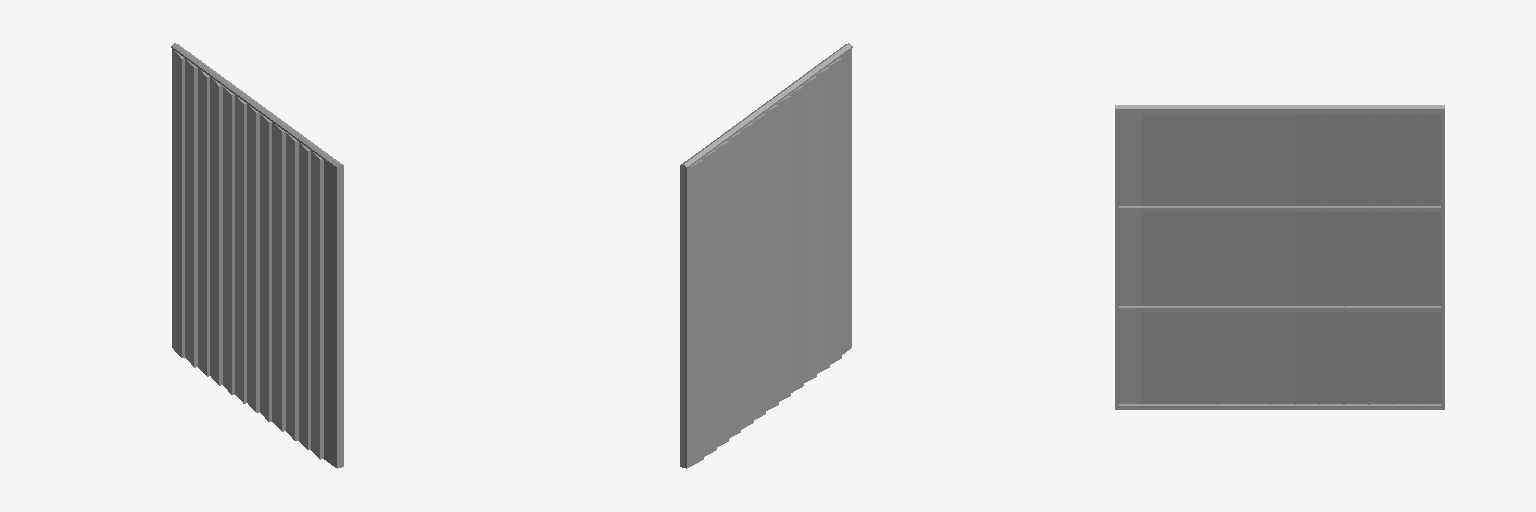
Rendered from WOODEN_PLATE.obj.
The picture shows the model from 3 angles: view 1: azimuth 30°, elevation 25°; view 2: azimuth 150°, elevation 25°; view 3: azimuth 270°, elevation 25°; orthographic projection.
Parts seen in each view (by area): view 1: Object_Frame_Panel_a_skin_a2.jpg, Object_Frame_Panel_a_skin_a4.jpg, Object_Frame_Panel_a_skin_a5.jpg, Object_Frame_Panel_a_skin_a6.jpg, Object_Frame_Panel_a_skin_a3.jpg, Object_Frame_Panel_a_skin_a1.jpg, Object_Frame_finish_a1.jpg; view 2: Object_Frame_Panel_a_skin_a2.jpg, Object_Frame_Panel_a_skin_a4.jpg, Object_Frame_Panel_a_skin_a6.jpg, Object_Frame_Panel_a_skin_a3.jpg, Object_Frame_Panel_a_skin_a1.jpg, Object_Frame_Panel_a_skin_a5.jpg, Object_Frame_finish_a1.jpg; view 3: Object_Frame_Panel_a_skin_a4.jpg, Object_Frame_Panel_a_skin_a2.jpg, Object_Frame_Panel_a_skin_a3.jpg, Object_Frame_Panel_a_skin_a6.jpg, Object_Frame_Panel_a_skin_a5.jpg, Object_Frame_Panel_a_skin_a1.jpg, Object_Frame_finish_a1.jpg.
Boxes of the visible parts, <box> form: Object_Frame_Panel_a_skin_a2.jpg: <box>185,59,343,467</box>; Object_Frame_Panel_a_skin_a4.jpg: <box>210,77,343,459</box>; Object_Frame_Panel_a_skin_a5.jpg: <box>223,86,343,468</box>; Object_Frame_Panel_a_skin_a6.jpg: <box>235,95,343,449</box>; Object_Frame_Panel_a_skin_a3.jpg: <box>198,68,271,421</box>; Object_Frame_Panel_a_skin_a1.jpg: <box>172,49,184,357</box>; Object_Frame_finish_a1.jpg: <box>171,43,343,168</box>; Object_Frame_Panel_a_skin_a2.jpg: <box>702,76,816,456</box>; Object_Frame_Panel_a_skin_a4.jpg: <box>727,58,841,438</box>; Object_Frame_Panel_a_skin_a6.jpg: <box>751,67,829,419</box>; Object_Frame_Panel_a_skin_a3.jpg: <box>714,95,790,446</box>; Object_Frame_Panel_a_skin_a1.jpg: <box>680,159,703,468</box>; Object_Frame_Panel_a_skin_a5.jpg: <box>739,49,851,429</box>; Object_Frame_finish_a1.jpg: <box>680,43,852,168</box>; Object_Frame_Panel_a_skin_a4.jpg: <box>1115,111,1444,404</box>; Object_Frame_Panel_a_skin_a2.jpg: <box>1115,115,1419,405</box>; Object_Frame_Panel_a_skin_a3.jpg: <box>1115,115,1444,409</box>; Object_Frame_Panel_a_skin_a6.jpg: <box>1119,115,1440,404</box>; Object_Frame_Panel_a_skin_a5.jpg: <box>1119,115,1440,404</box>; Object_Frame_Panel_a_skin_a1.jpg: <box>1420,115,1444,405</box>; Object_Frame_finish_a1.jpg: <box>1115,105,1444,110</box>.
Size of the model in its own units: 0.0901 by 2.5 by 2.47.